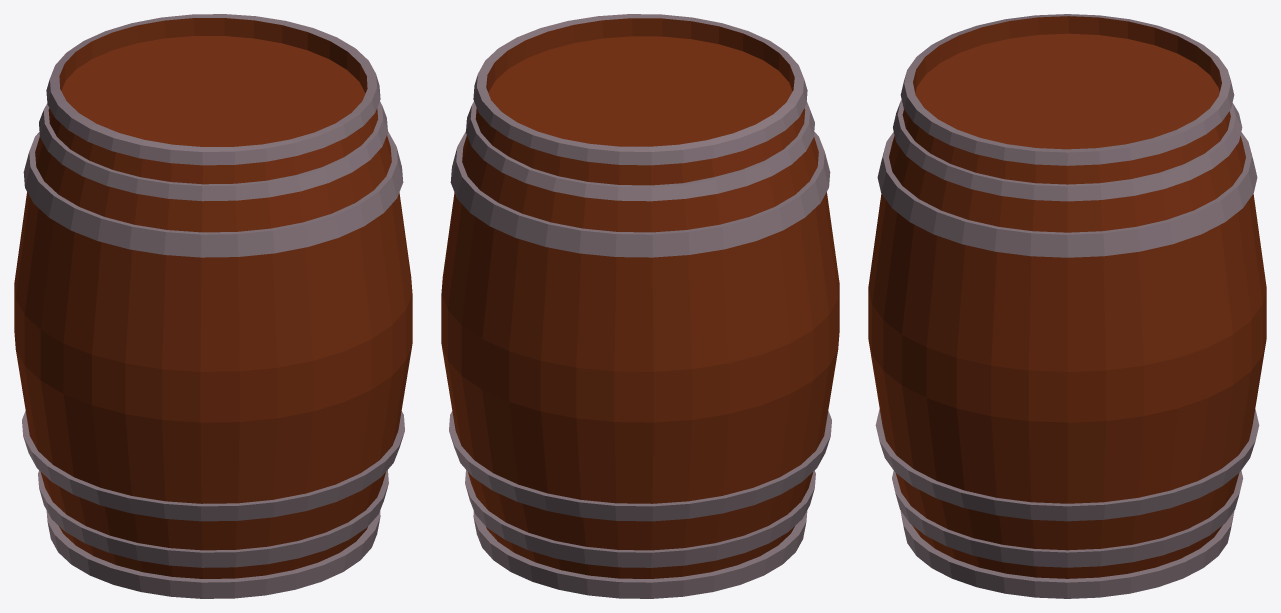
File: barrel.fbx
3 renders of one model, left to right at view 1: azimuth 30°, elevation 25°; view 2: azimuth 150°, elevation 25°; view 3: azimuth 270°, elevation 25°, orthographic.
Parts seen in each view (by area): view 1: Cylinder; view 2: Cylinder; view 3: Cylinder.
Boxes of the visible parts, <box> form: Cylinder: <box>14,14,412,598</box>; Cylinder: <box>441,14,839,598</box>; Cylinder: <box>868,14,1266,598</box>.
Size of the model in its own units: 206 by 255 by 206.
Materials: 1 (1 with a texture image).
